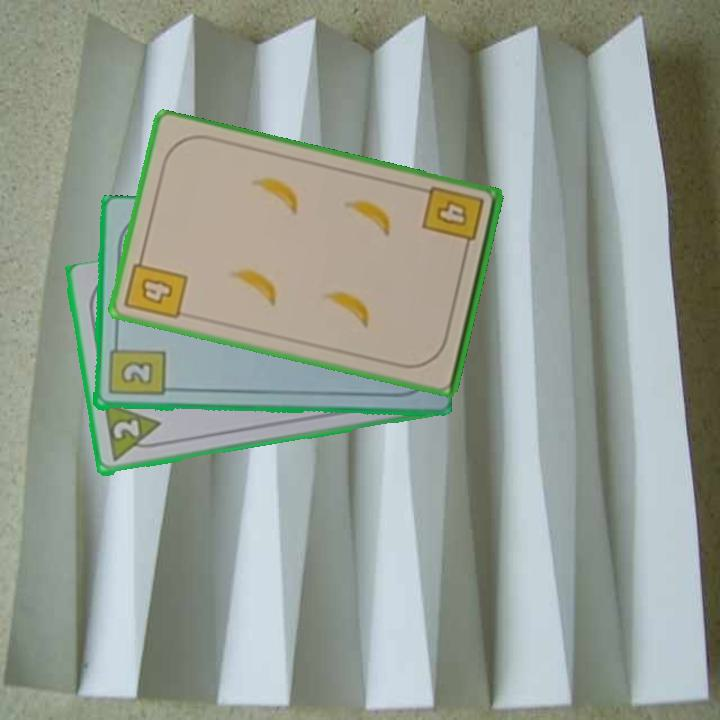2b: (105, 337, 167, 399)
2p: (99, 401, 166, 465)
4b: (121, 249, 191, 323), (419, 182, 487, 257)
